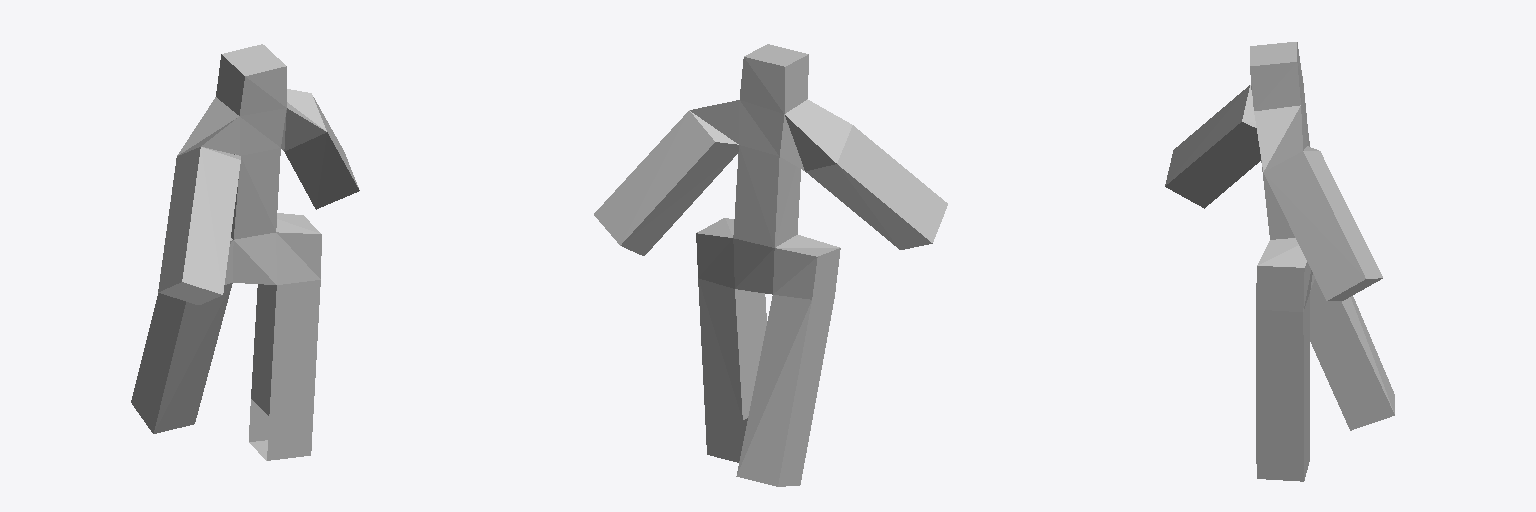
Rendered from cuboid_000021.obj.
3 renders of one model, left to right at view 1: azimuth 30°, elevation 25°; view 2: azimuth 150°, elevation 25°; view 3: azimuth 270°, elevation 25°, orthographic.
Visible parts, largest first — view 1: Cube; view 2: Cube; view 3: Cube.
Boxes of the visible parts, box(x1,y1,x2,y2) form: Cube: box(131, 44, 359, 460); Cube: box(594, 44, 947, 486); Cube: box(1165, 42, 1394, 481).
Bounding box in the file's own units: 3.16 × 4.64 × 2.4.